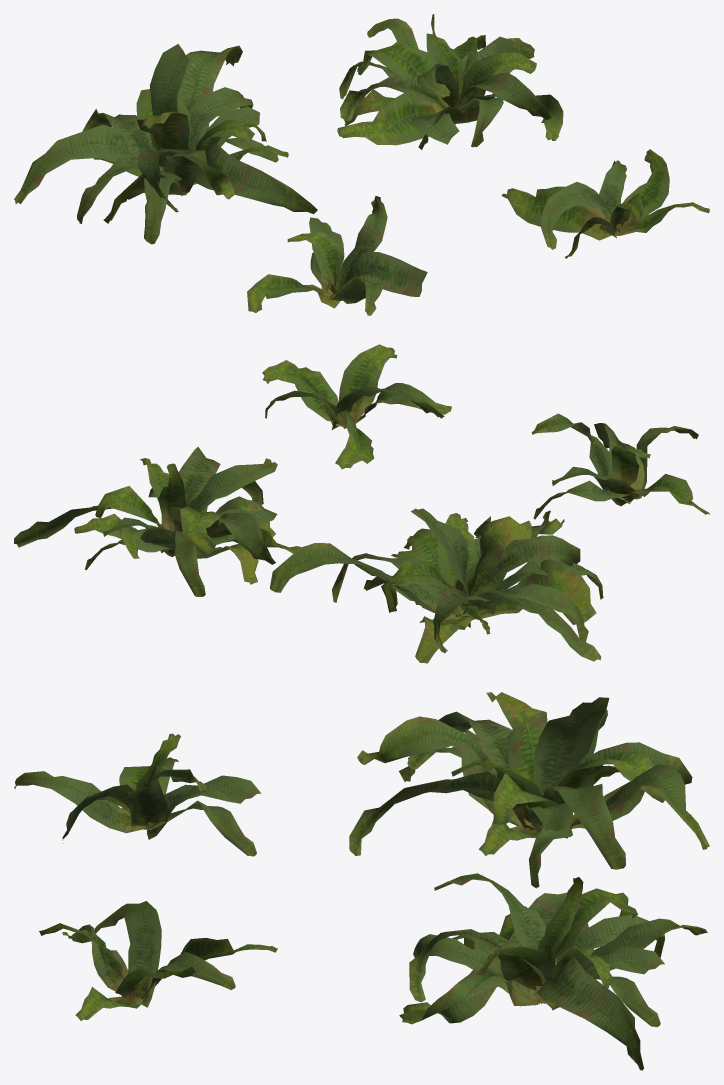
Rendered from fern_02.glb.
The picture shows the model from 3 angles, top to bottom: view 1: azimuth 30°, elevation 25°; view 2: azimuth 150°, elevation 25°; view 3: azimuth 270°, elevation 25°; orthographic projection. The views are drawn at different scales.
Parts seen in each view (by area): view 1: fern_02_b, fern_02_c, fern_02_d, fern_02_a; view 2: fern_02_b, fern_02_c, fern_02_d, fern_02_a; view 3: fern_02_b, fern_02_c, fern_02_a, fern_02_d.
Part boxes in pixels (x1=…): fern_02_b: x1=14, y1=44, x2=317, y2=244; fern_02_c: x1=337, y1=14, x2=563, y2=149; fern_02_d: x1=501, y1=149, x2=709, y2=258; fern_02_a: x1=247, y1=196, x2=427, y2=315; fern_02_b: x1=270, y1=508, x2=603, y2=663; fern_02_c: x1=14, y1=447, x2=300, y2=596; fern_02_d: x1=262, y1=344, x2=451, y2=469; fern_02_a: x1=531, y1=413, x2=709, y2=519; fern_02_b: x1=349, y1=692, x2=709, y2=888; fern_02_c: x1=399, y1=873, x2=707, y2=1070; fern_02_a: x1=14, y1=733, x2=261, y2=856; fern_02_d: x1=39, y1=901, x2=277, y2=1020.
Bounding box in the file's own units: 1.97 × 0.4277 × 1.72.
Materials: 1 (1 with a texture image).
